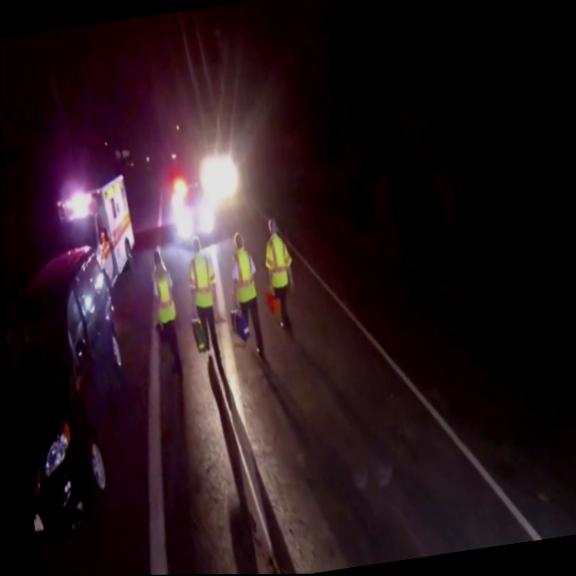safety_vest: (262, 231, 297, 292), (229, 247, 262, 306), (185, 255, 218, 311), (149, 266, 178, 326)
